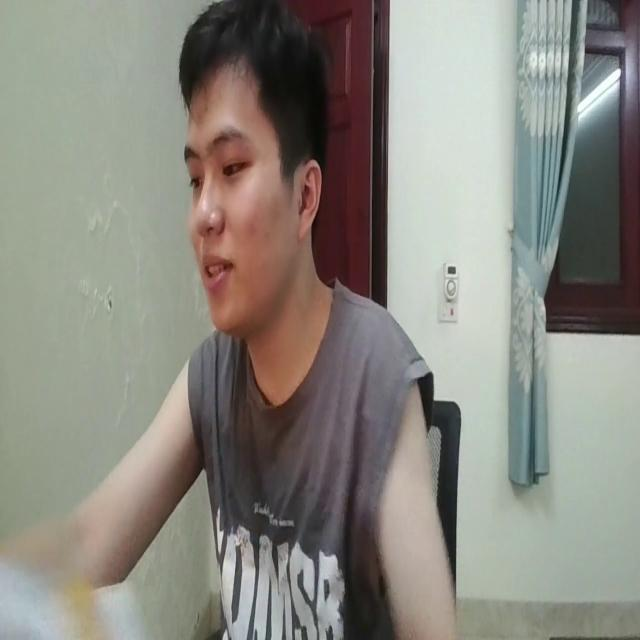student: (104, 0, 454, 640)
